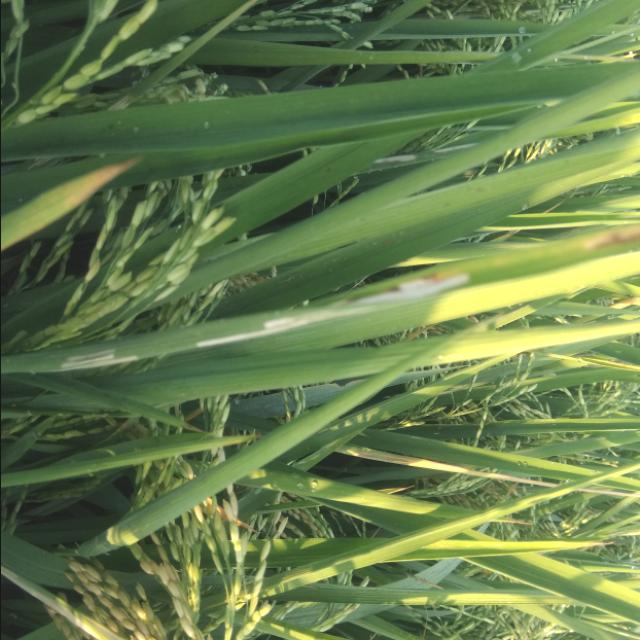Bacterial leaf blight: (180, 262, 474, 360), (55, 344, 142, 380)
